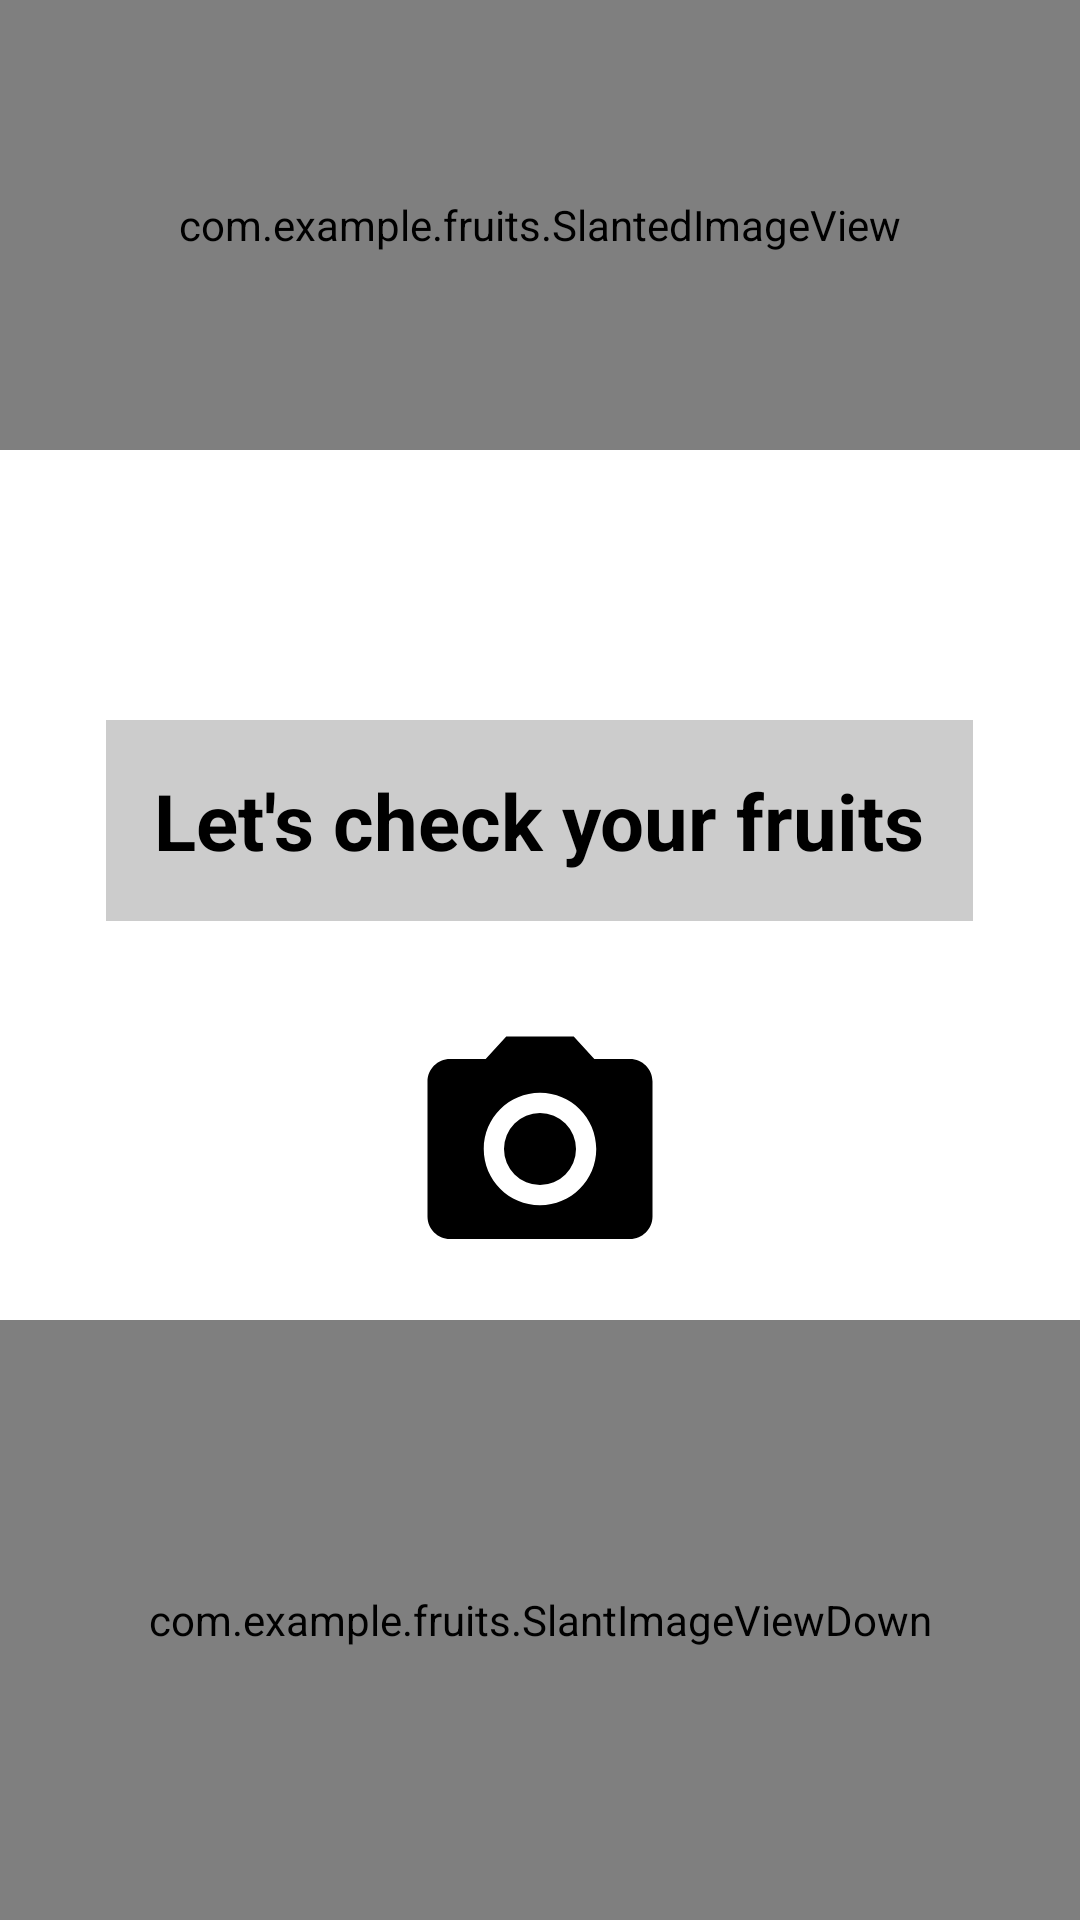

Named icons in this screenshot (1080×1920) and their bounding boxes, (x1, y1, x2, y2):
camera: (427, 1036, 653, 1239)
